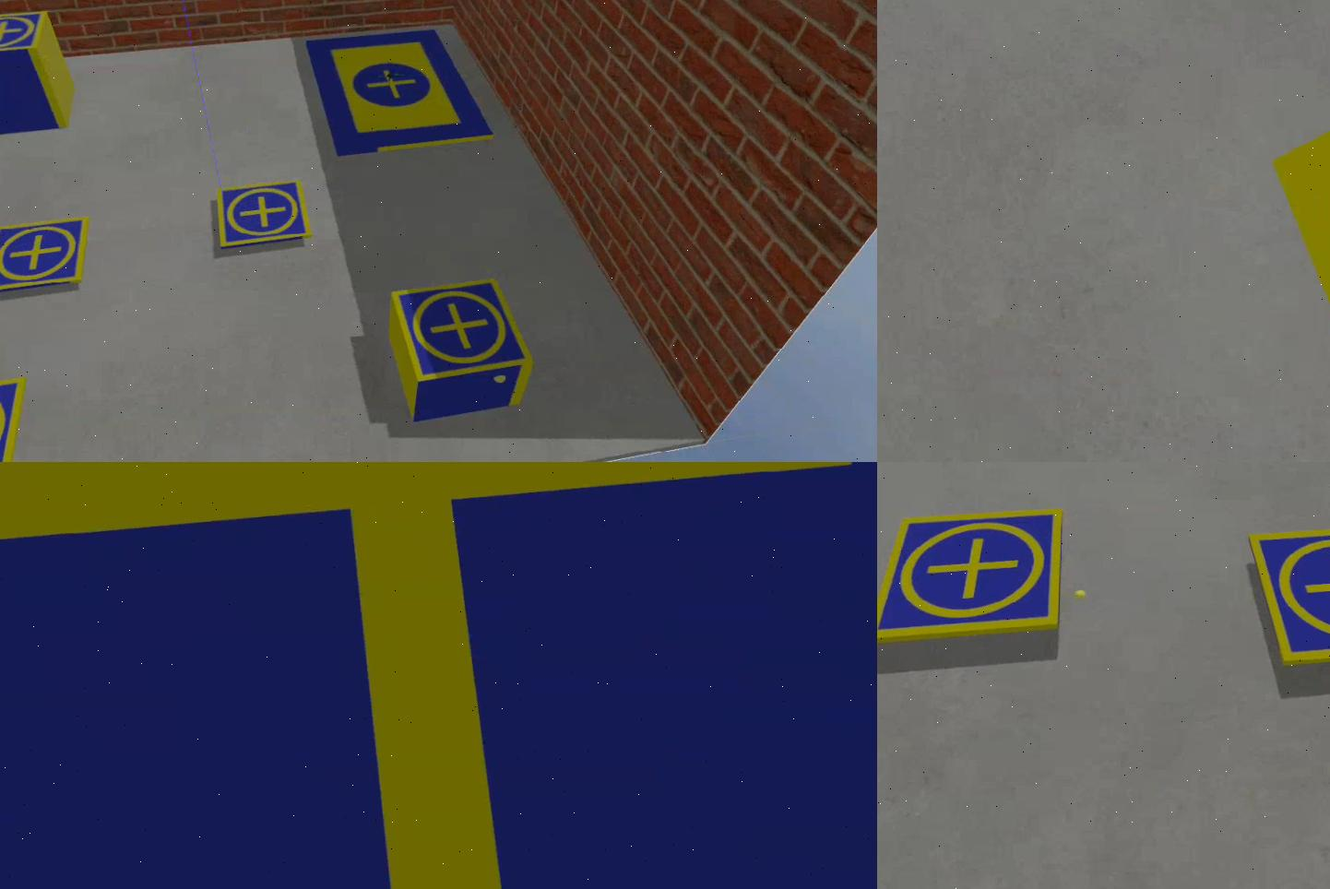large_base: (306, 28, 497, 161)
small_base: (1, 463, 878, 889), (878, 508, 1068, 648), (390, 277, 538, 385), (1248, 523, 1330, 672), (1, 215, 89, 300), (210, 184, 311, 255), (1, 10, 50, 59)
